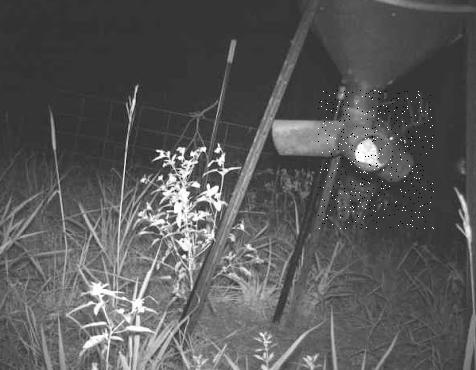Deer: (317, 90, 434, 229)
